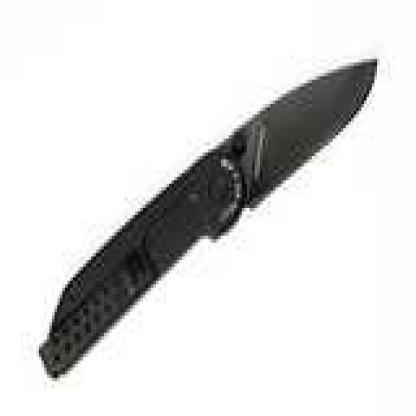Knife: (32, 46, 384, 382)
